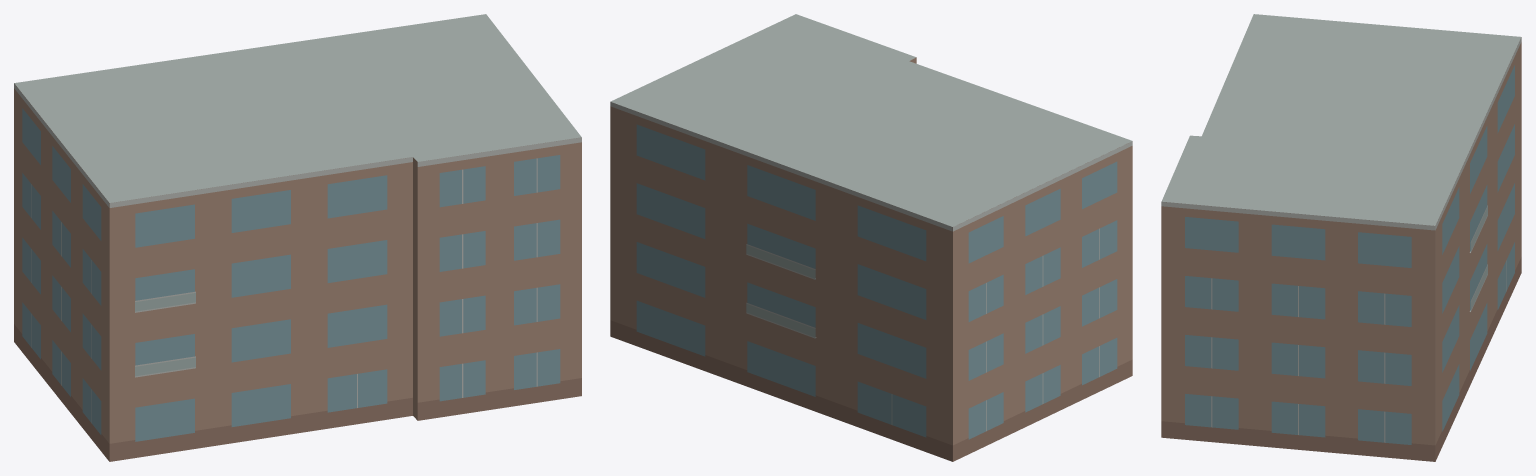
The model's file is survey-upis-32934442.glb.
3 views of the same model, side by side, from view 1: azimuth 30°, elevation 25°; view 2: azimuth 150°, elevation 25°; view 3: azimuth 270°, elevation 25° (orthographic). The views are drawn at different scales.
Parts seen in each view (by area): view 1: survey-upis-32934442.tmp; view 2: survey-upis-32934442.tmp; view 3: survey-upis-32934442.tmp.
Boxes of the visible parts, x1,y1,x2,y2 form: survey-upis-32934442.tmp: (14,14,581,461); survey-upis-32934442.tmp: (610,14,1132,461); survey-upis-32934442.tmp: (1161,14,1521,461).
Size of the model in its own units: 24.08 by 12.5 by 17.3.
